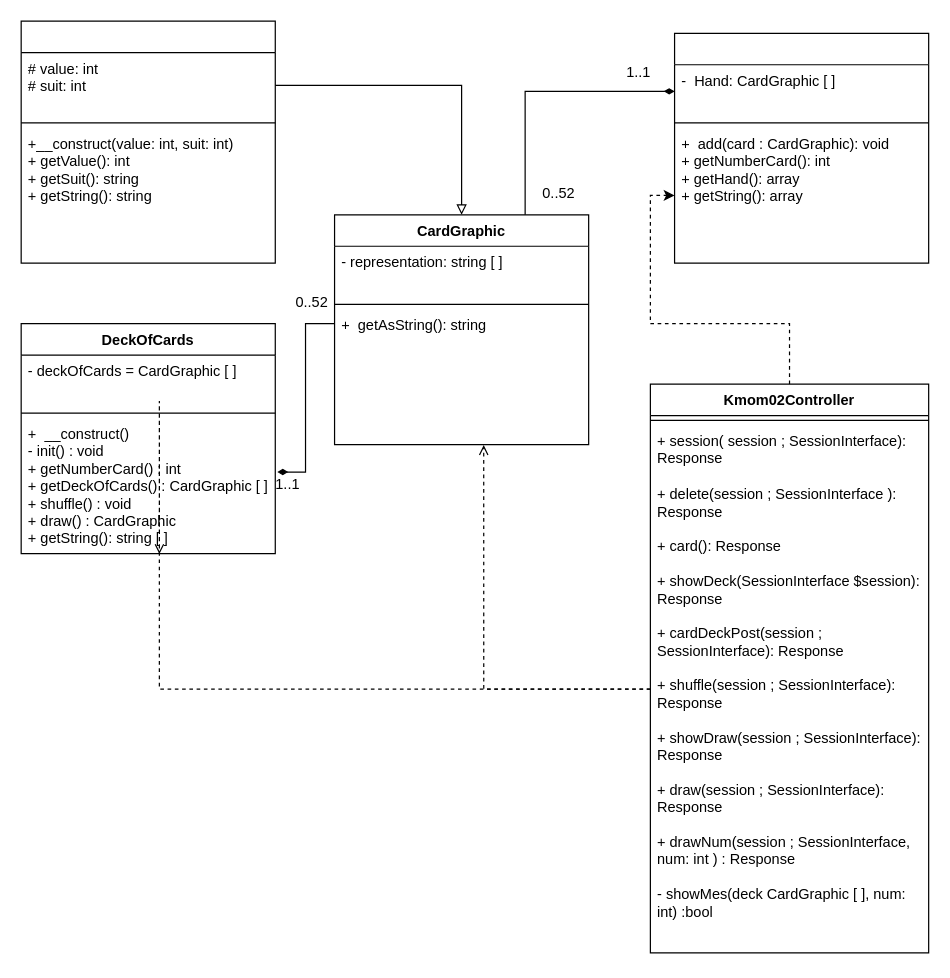
The diagram is 950 pixels wide and 978 high, and some of its shapes have lost their labels. Here are the shapes that lost their labels. From the top down, the box of each, then its label:
(20, 20, 275, 263): Card
(673, 32, 929, 263): CardHand
